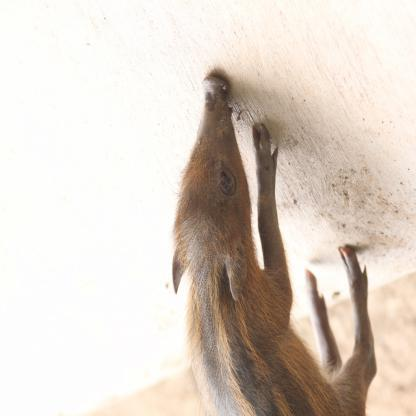boar: (170, 77, 380, 416)
